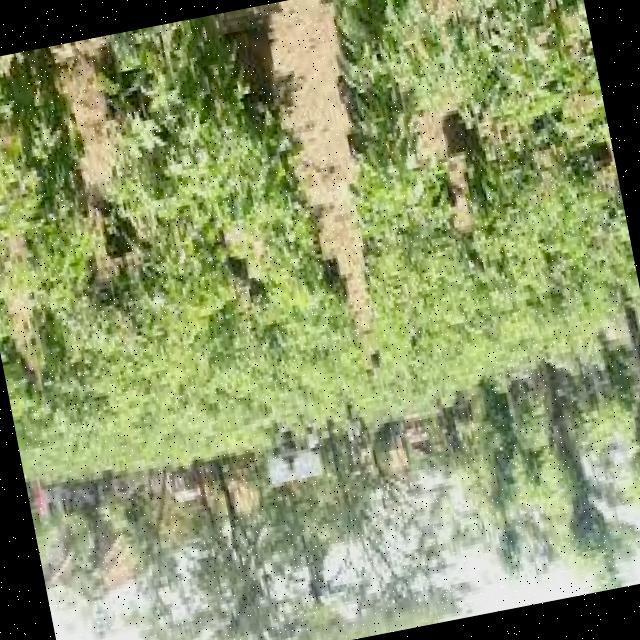healthy: (326, 3, 436, 246)
